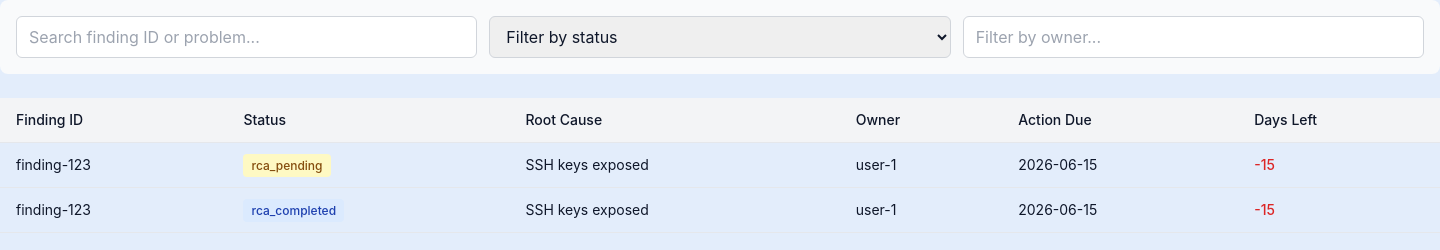
Test case: ActiveCapaList › should filter by status
Select "RCA Completed" in the dropdown showing "Filter by status". click: (720, 37)
box: [489,16,951,58]
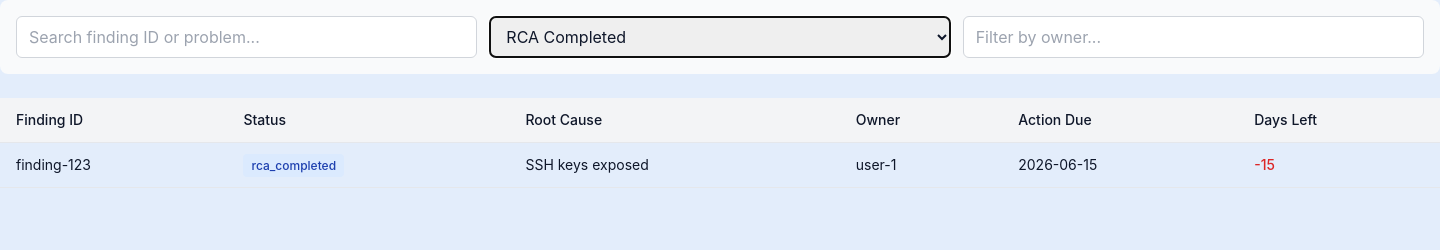
Expected: the text "rca_completed" is shown, [244,154,344,177]
Expected: the text "rca_pending" is gone
